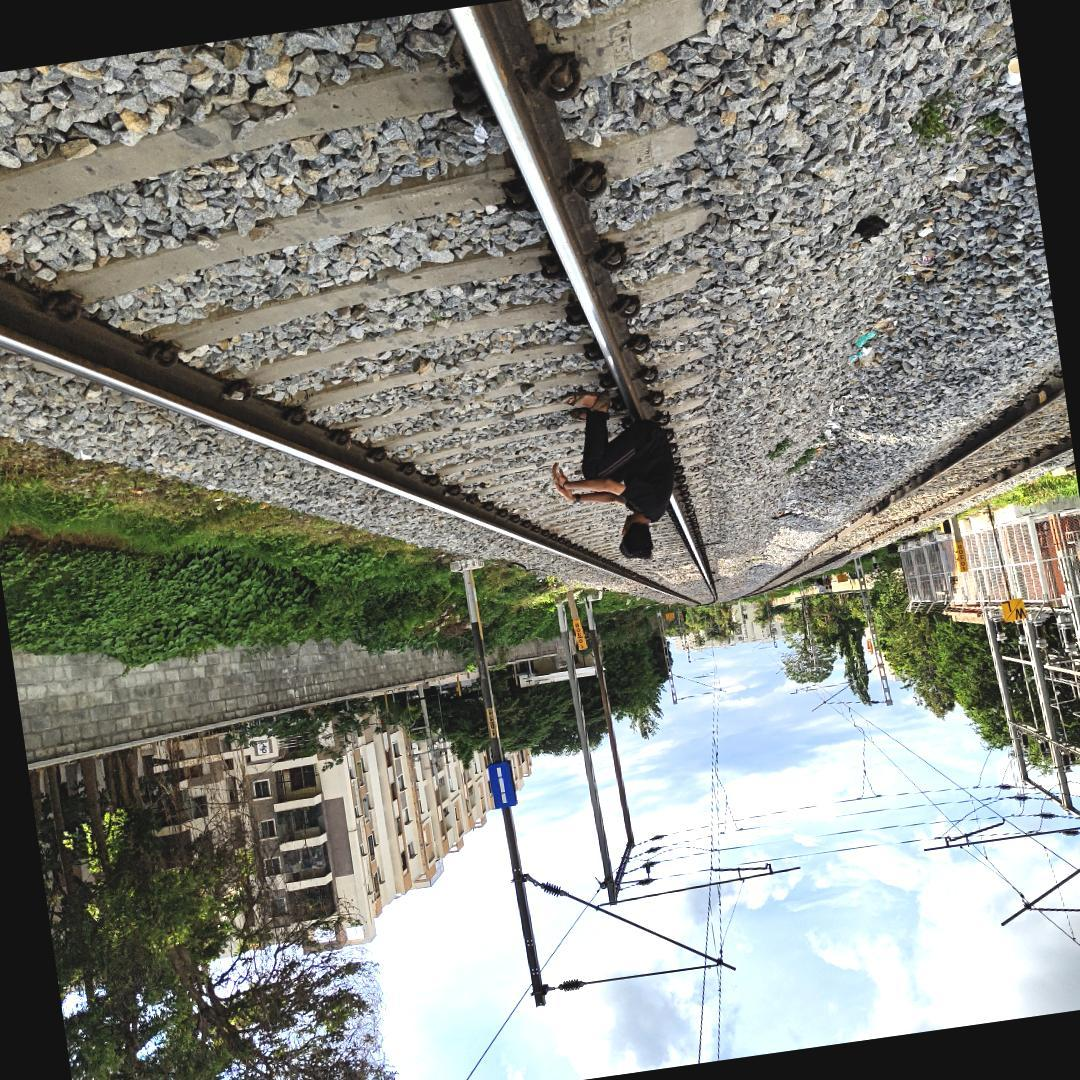sitting: (529, 384, 699, 575)
